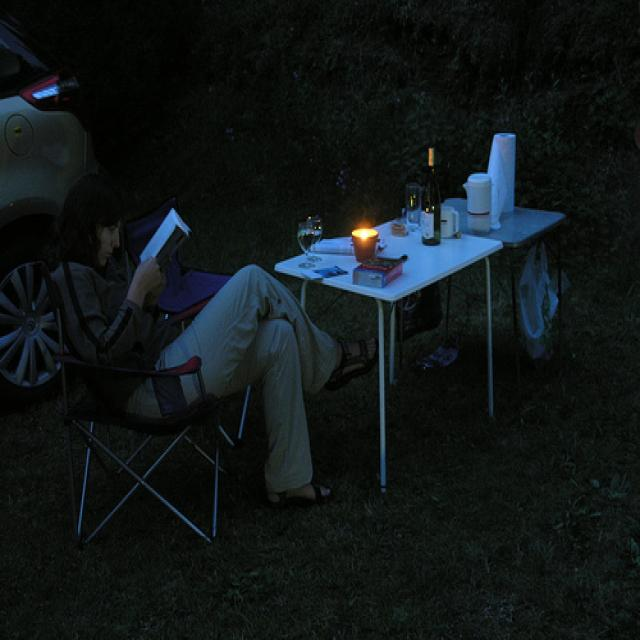People: (48, 183, 373, 486)
Table: (281, 162, 574, 476)
chair: (58, 325, 244, 575)
